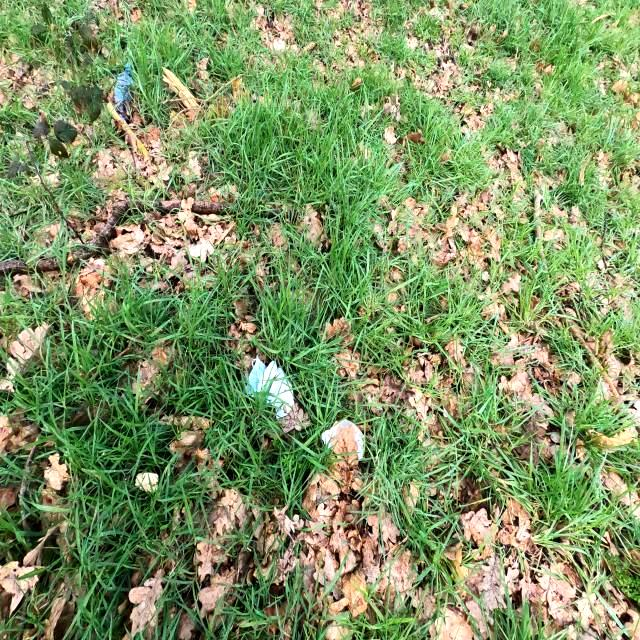Mask: (243, 353, 294, 419)
Paper: (320, 418, 364, 460)
